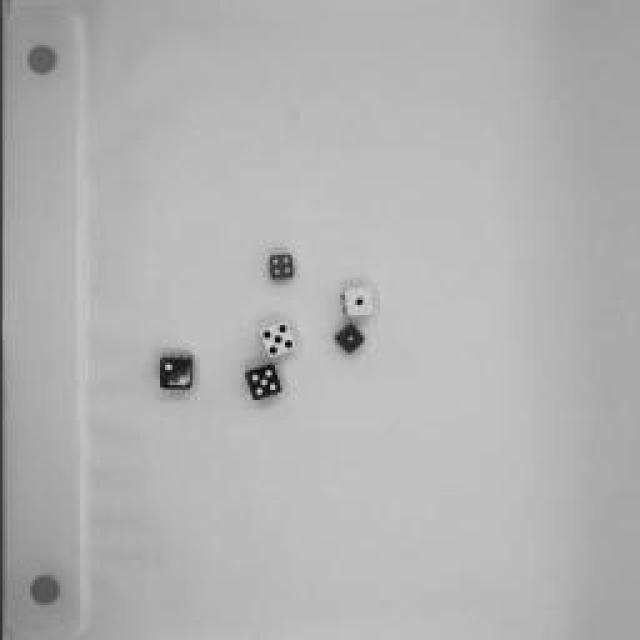dice_1: (339, 282, 379, 322), (329, 319, 366, 356)
dice_2: (155, 350, 197, 395)
dice_4: (266, 250, 299, 285)
dice_5: (256, 316, 299, 364), (243, 361, 285, 404)
